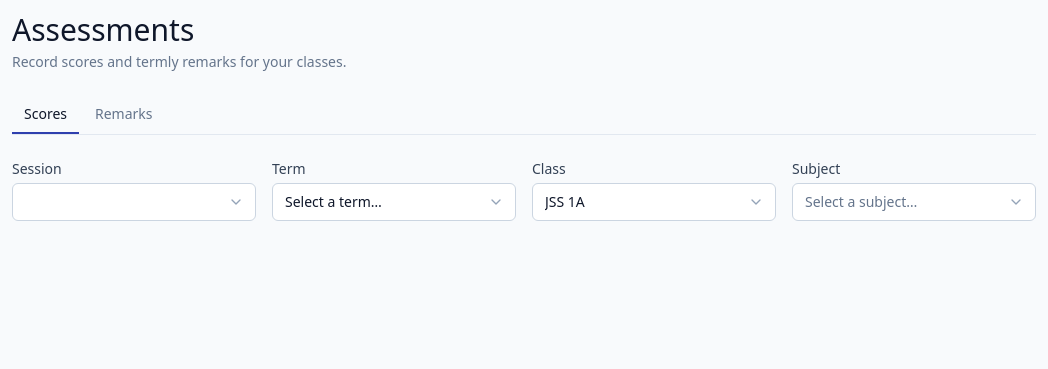
Test case: AssessmentsPage › leaves a non-graded subject out of a teacher's subject picker
The image size is (1048, 369).
Click the dropdown labelled "Subject": point(914, 202) [792,183,1036,221]
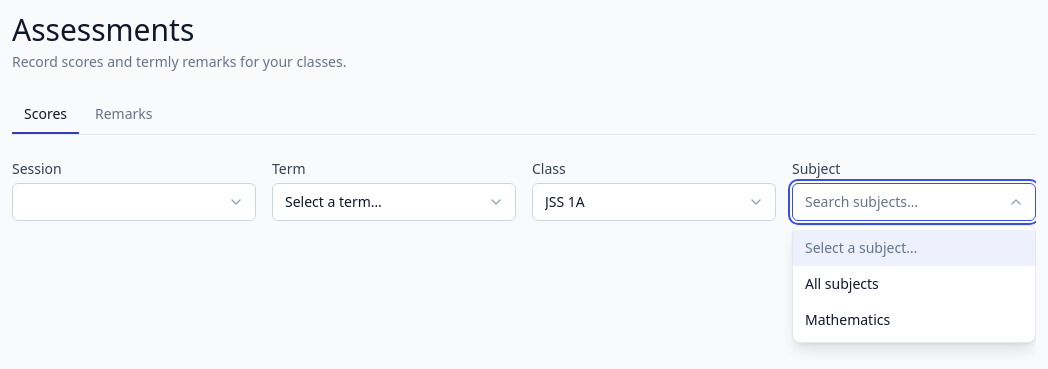
Result: the option "Mathematics" is shown at [805,310,890,329]
